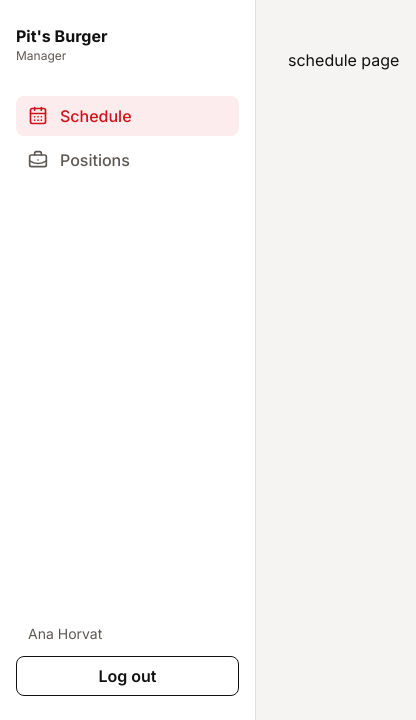
Scenario: DashboardLayout › switches to the positions page from the sidebar
What coordinates should you click on to do the following:
click the link "Positions"
I would click on:
 (79, 160)
Its box is 28,150 -> 130,170.
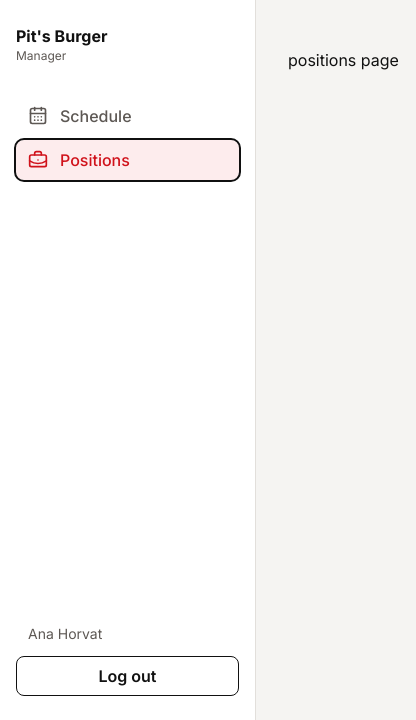
Result: the text "positions page" is shown at 288,50 -> 399,70
